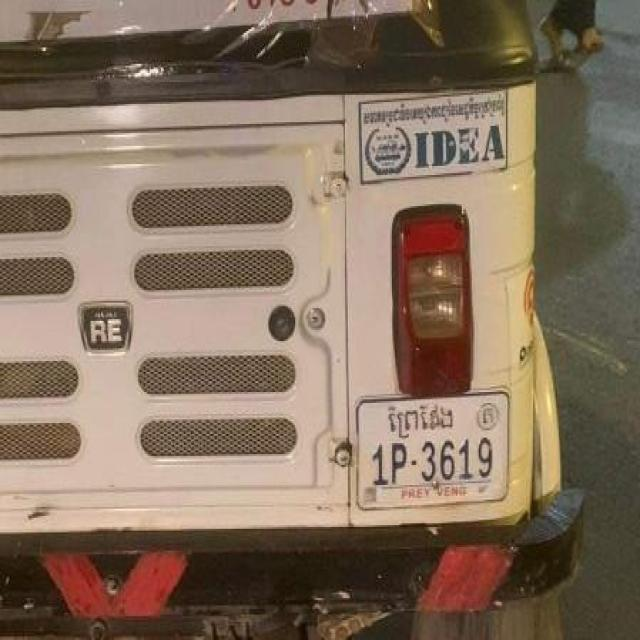Prey_Veng: (386, 400, 458, 440)
